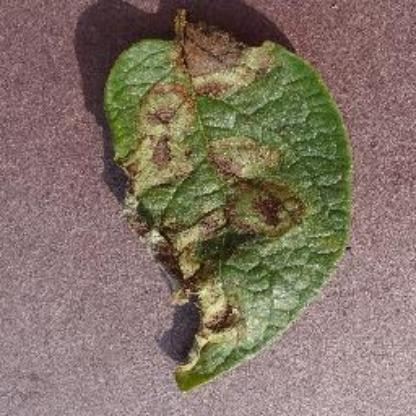Late-Blight: (82, 7, 364, 395)
